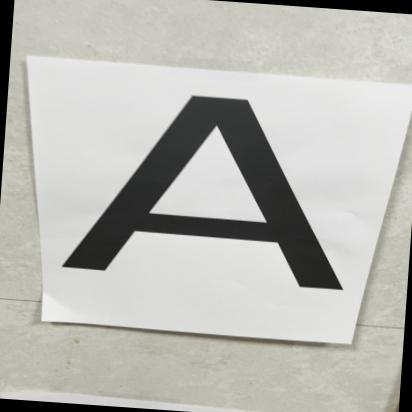seat: (37, 76, 407, 316)
